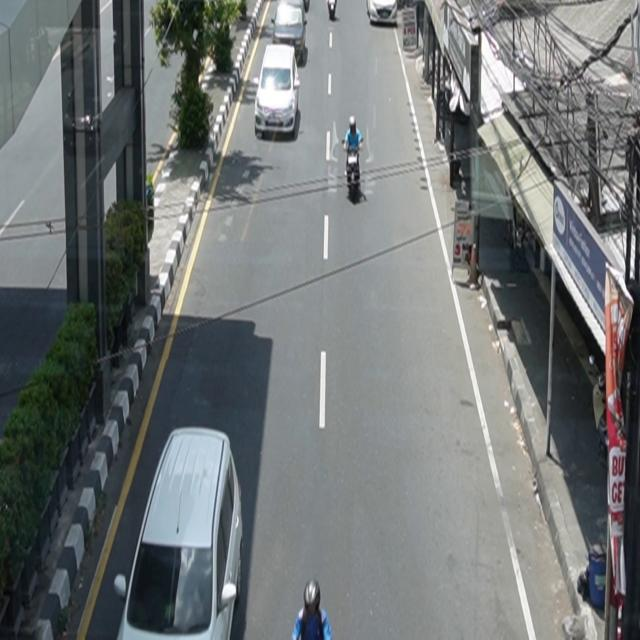car: (114, 427, 244, 640), (255, 44, 301, 139), (272, 2, 308, 65), (367, 1, 399, 26)
